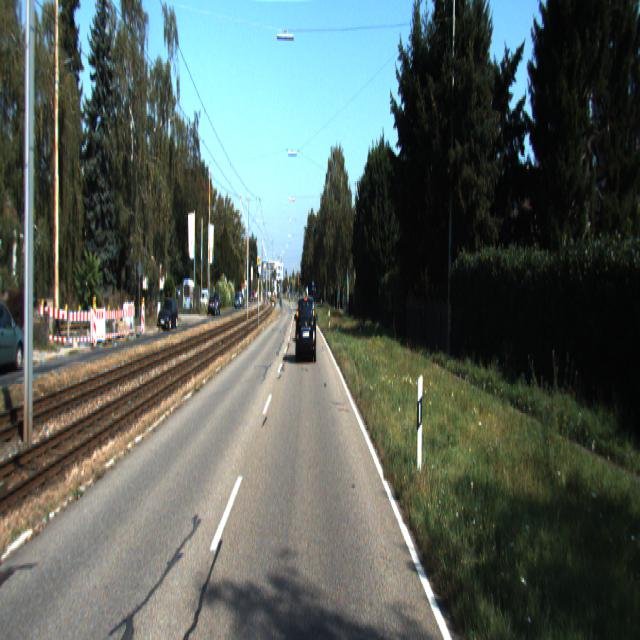Car: (0, 290, 30, 370), (296, 296, 317, 366), (158, 297, 179, 331)
